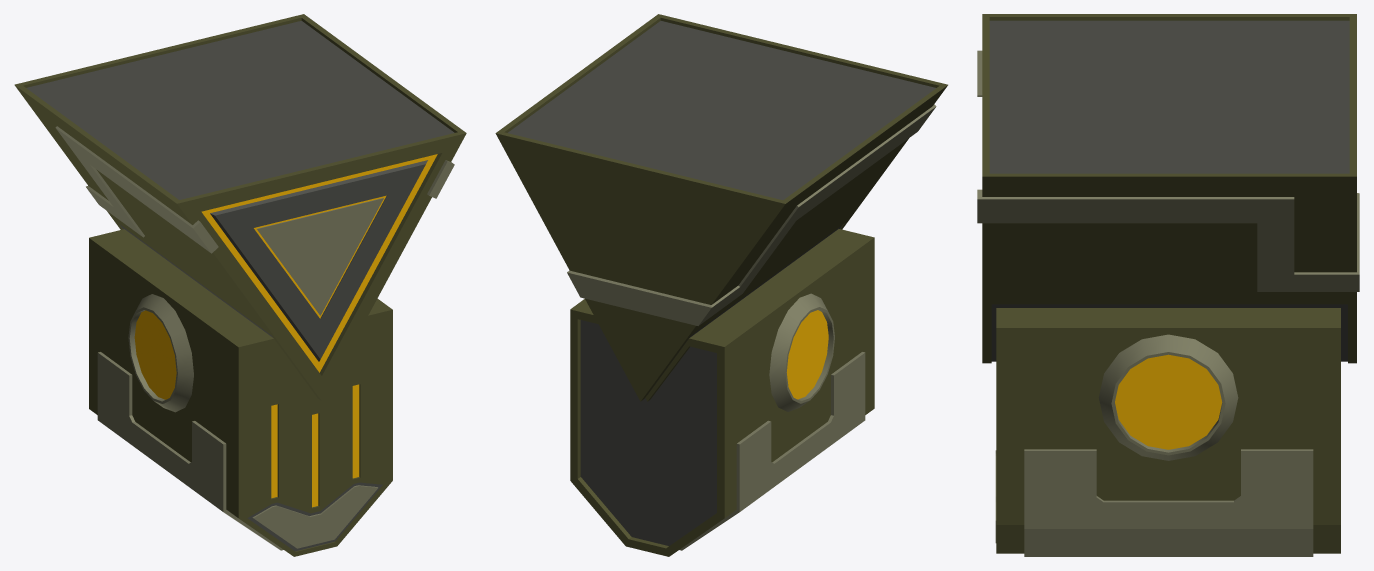
File: Bot_Body.fbx
The picture shows the model from 3 angles, left to right: view 1: azimuth 30°, elevation 25°; view 2: azimuth 150°, elevation 25°; view 3: azimuth 270°, elevation 25°; orthographic projection. The views are drawn at different scales.
Visible parts, largest first — view 1: Body; view 2: Body; view 3: Body.
Boxes of the visible parts, x1,y1,x2,y2 form: Body: (14, 14, 466, 556); Body: (495, 14, 947, 556); Body: (977, 14, 1359, 556).
Bounding box in the file's own units: 3894 × 5009 × 3867.
